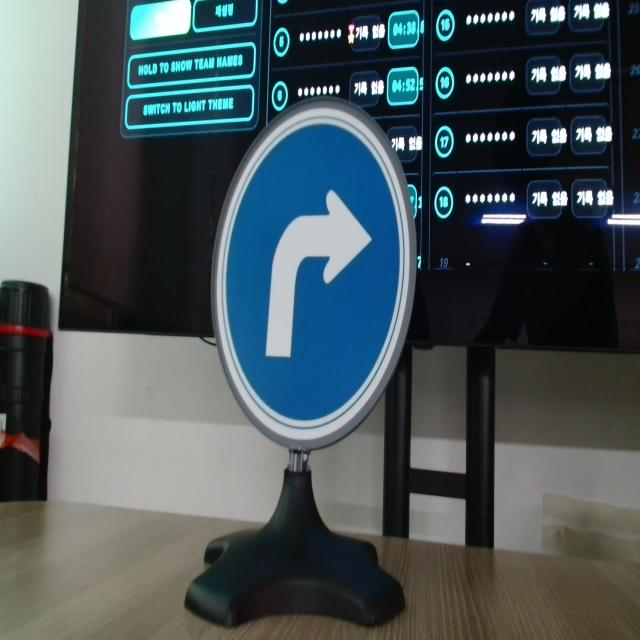right_dierection: (212, 98, 428, 432)
